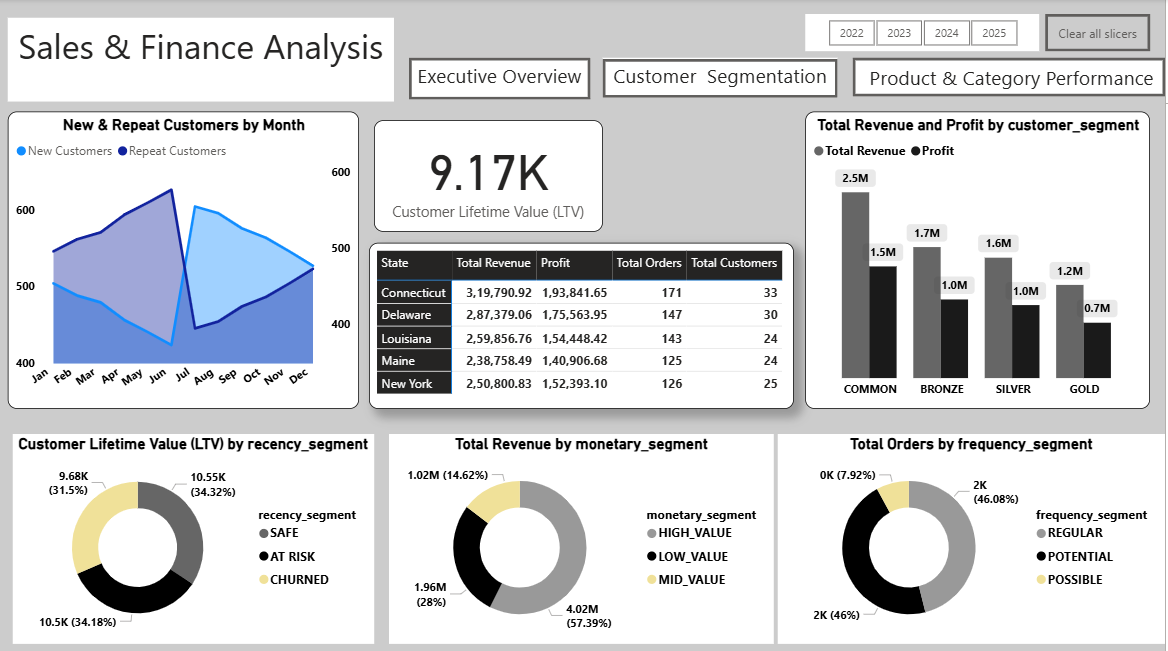

What the dashboard file says about the page in this screenshot:
{"tool":"powerbi","page":{"name":"Customer  Segmentation","canvas":[1280,720],"ordinal":1},"visuals":[{"type":"actionButton","box":[450.1,64.5,199.1,46],"z":0,"group":"g1"},{"type":"actionButton","box":[662.8,66.1,258,42.5],"z":1000,"group":"g1"},{"type":"actionButton","box":[937.3,64.8,343.1,42.5],"z":2000,"group":"g1"},{"type":"card","fields":{"Values":["_measures.Customer Lifetime Value (LTV)"]},"box":[411.7,133.1,251.1,122.1],"z":4000},{"type":"pivotTable","title":"Total Revenue by Month","fields":{"Values":["_measures.Total Revenue","_measures.Profit","_measures.Total Orders","_measures.Total Customers"],"Rows":["customers.customer_state"]},"box":[406.2,267.6,466.6,182.5],"z":5000},{"type":"areaChart","title":"New & Repeat Customers by Month","fields":{"Category":["DateTable.MonthShort"],"Y":["_measures.New Customers"],"Y2":["_measures.Repeat Customers"]},"box":[9.6,123.5,385.6,326.6],"z":6000},{"type":"clusteredColumnChart","fields":{"Category":["Customer Segmentation.customer_segment"],"Y":["_measures.Total Revenue","_measures.Profit"]},"box":[885.1,123.5,378.7,326.6],"z":7000},{"type":"slicer","fields":{"Values":["DateTable.Year"]},"box":[885.1,16.5,256.6,41.2],"z":8000},{"type":"actionButton","box":[1148.5,16.5,115.3,41.2],"z":9000},{"type":"textbox","box":[9.6,20.6,424,91.9],"z":10000},{"type":"textbox","box":[450.1,64.5,199,43.9],"z":11000},{"type":"textbox","box":[662.8,64.5,258,43.9],"z":12000},{"type":"textbox","box":[936.9,65.9,343.1,41.2],"z":13000},{"type":"group","id":"g1","title":"nav button","box":[450.1,64.5,830.2,45.3],"z":14000},{"type":"donutChart","fields":{"Y":["_measures.Total Orders"],"Category":["Customer Segmentation.frequency_segment"]},"box":[854.9,477.5,425.4,230.5],"z":16000},{"type":"donutChart","fields":{"Category":["Customer Segmentation.monetary_segment"],"Y":["_measures.Total Revenue"]},"box":[428.1,477.5,422.6,230.5],"z":16500},{"type":"donutChart","fields":{"Category":["Customer Segmentation.recency_segment"],"Y":["_measures.Customer Lifetime Value (LTV)"]},"box":[15.1,477.5,396.6,230.5],"z":17000}]}

Visuals, with their boxes in screenshot pixels (x1, y1, x2, y2), scaled from the page's 1280x720 canvas onto the 1168x651 screenshot:
actionButton: bbox(411, 58, 592, 100)
actionButton: bbox(605, 60, 840, 98)
actionButton: bbox(855, 59, 1167, 97)
card - _measures.Customer Lifetime Value (LTV): bbox(376, 120, 605, 231)
"Total Revenue by Month" pivotTable: bbox(371, 242, 796, 407)
"New & Repeat Customers by Month" areaChart: bbox(9, 112, 361, 407)
clusteredColumnChart - Customer Segmentation.customer_segment x _measures.Total Revenue: bbox(808, 112, 1153, 407)
slicer - DateTable.Year: bbox(808, 15, 1042, 52)
actionButton: bbox(1048, 15, 1153, 52)
textbox: bbox(9, 19, 396, 102)
textbox: bbox(411, 58, 592, 98)
textbox: bbox(605, 58, 840, 98)
textbox: bbox(855, 60, 1167, 97)
"nav button" group: bbox(411, 58, 1167, 99)
donutChart - _measures.Total Orders x Customer Segmentation.frequency_segment: bbox(780, 432, 1167, 640)
donutChart - Customer Segmentation.monetary_segment x _measures.Total Revenue: bbox(391, 432, 776, 640)
donutChart - Customer Segmentation.recency_segment x _measures.Customer Lifetime Value (LTV): bbox(14, 432, 376, 640)
